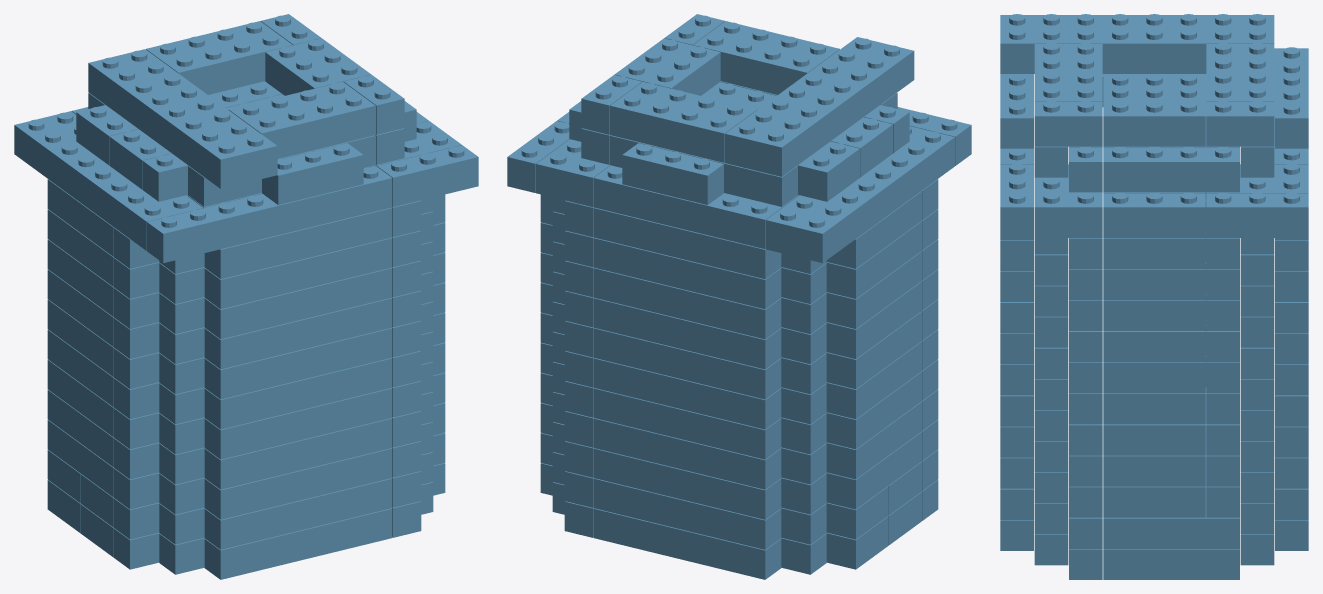
File: 048_birdhouse_L3.glb
3 views of the same model, side by side, from view 1: azimuth 30°, elevation 25°; view 2: azimuth 150°, elevation 25°; view 3: azimuth 270°, elevation 25° (orthographic). The views are drawn at different scales.
Bounding box in the file's own units: 10.98 × 14.13 × 8.98.
